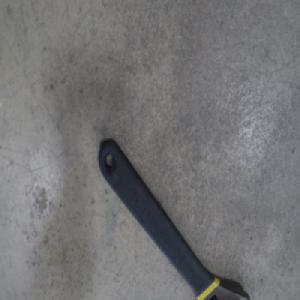AdjustableWrench: (96, 141, 250, 300)
